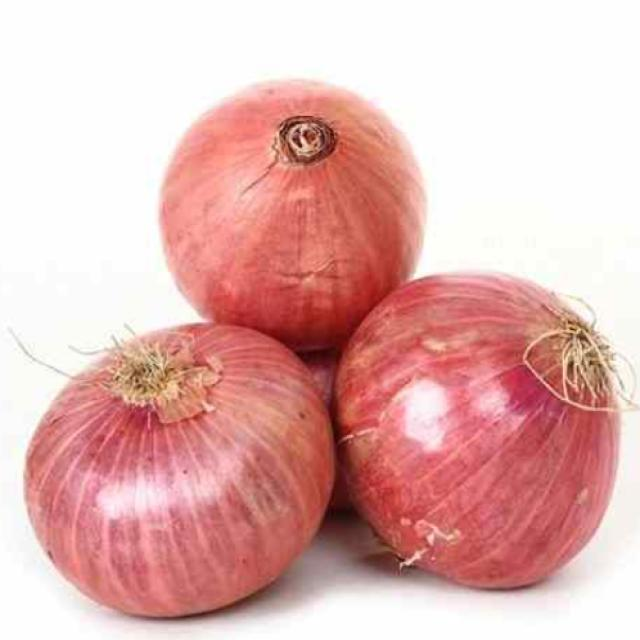healthy: (162, 82, 424, 349)
